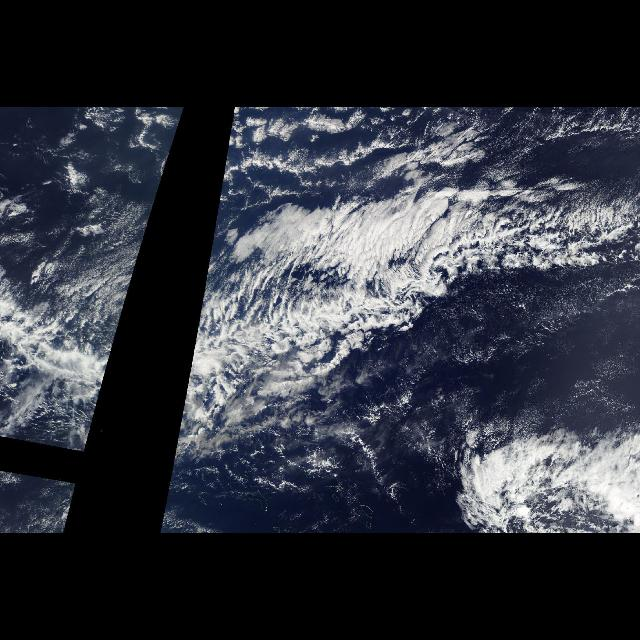Fish: (179, 182, 639, 456), (0, 197, 156, 453), (462, 428, 638, 530)
Gravel: (220, 108, 488, 196), (59, 108, 185, 196)
Sugar: (345, 274, 639, 518), (57, 176, 161, 320), (472, 107, 640, 189)
